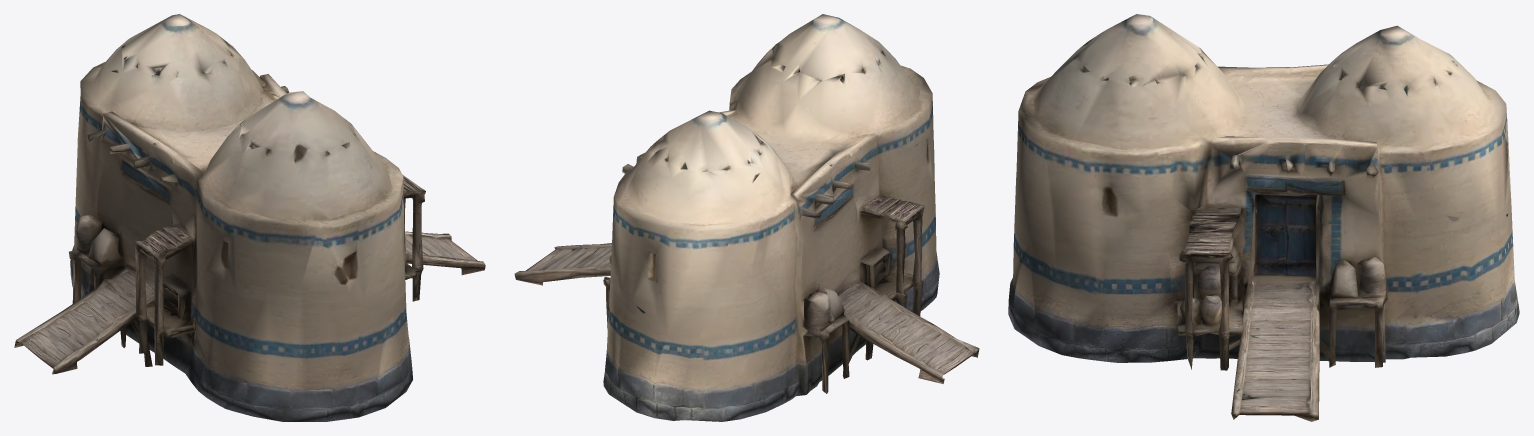
Rendered from granary_1.glb.
3 renders of one model, left to right at view 1: azimuth 30°, elevation 25°; view 2: azimuth 150°, elevation 25°; view 3: azimuth 270°, elevation 25°, orthographic. The views are drawn at different scales.
Parts seen in each view (by area): view 1: tripo_node_42b017d9-2ec3-4644-914f-3785c07c3497; view 2: tripo_node_42b017d9-2ec3-4644-914f-3785c07c3497; view 3: tripo_node_42b017d9-2ec3-4644-914f-3785c07c3497.
Boxes of the visible parts, x1=… form: tripo_node_42b017d9-2ec3-4644-914f-3785c07c3497: x1=14, y1=14, x2=485, y2=421; tripo_node_42b017d9-2ec3-4644-914f-3785c07c3497: x1=514, y1=14, x2=979, y2=421; tripo_node_42b017d9-2ec3-4644-914f-3785c07c3497: x1=1008, y1=14, x2=1519, y2=421.
Bounding box in the file's own units: 0.9818 × 0.5931 × 0.936.
1 material, 1 textured.
